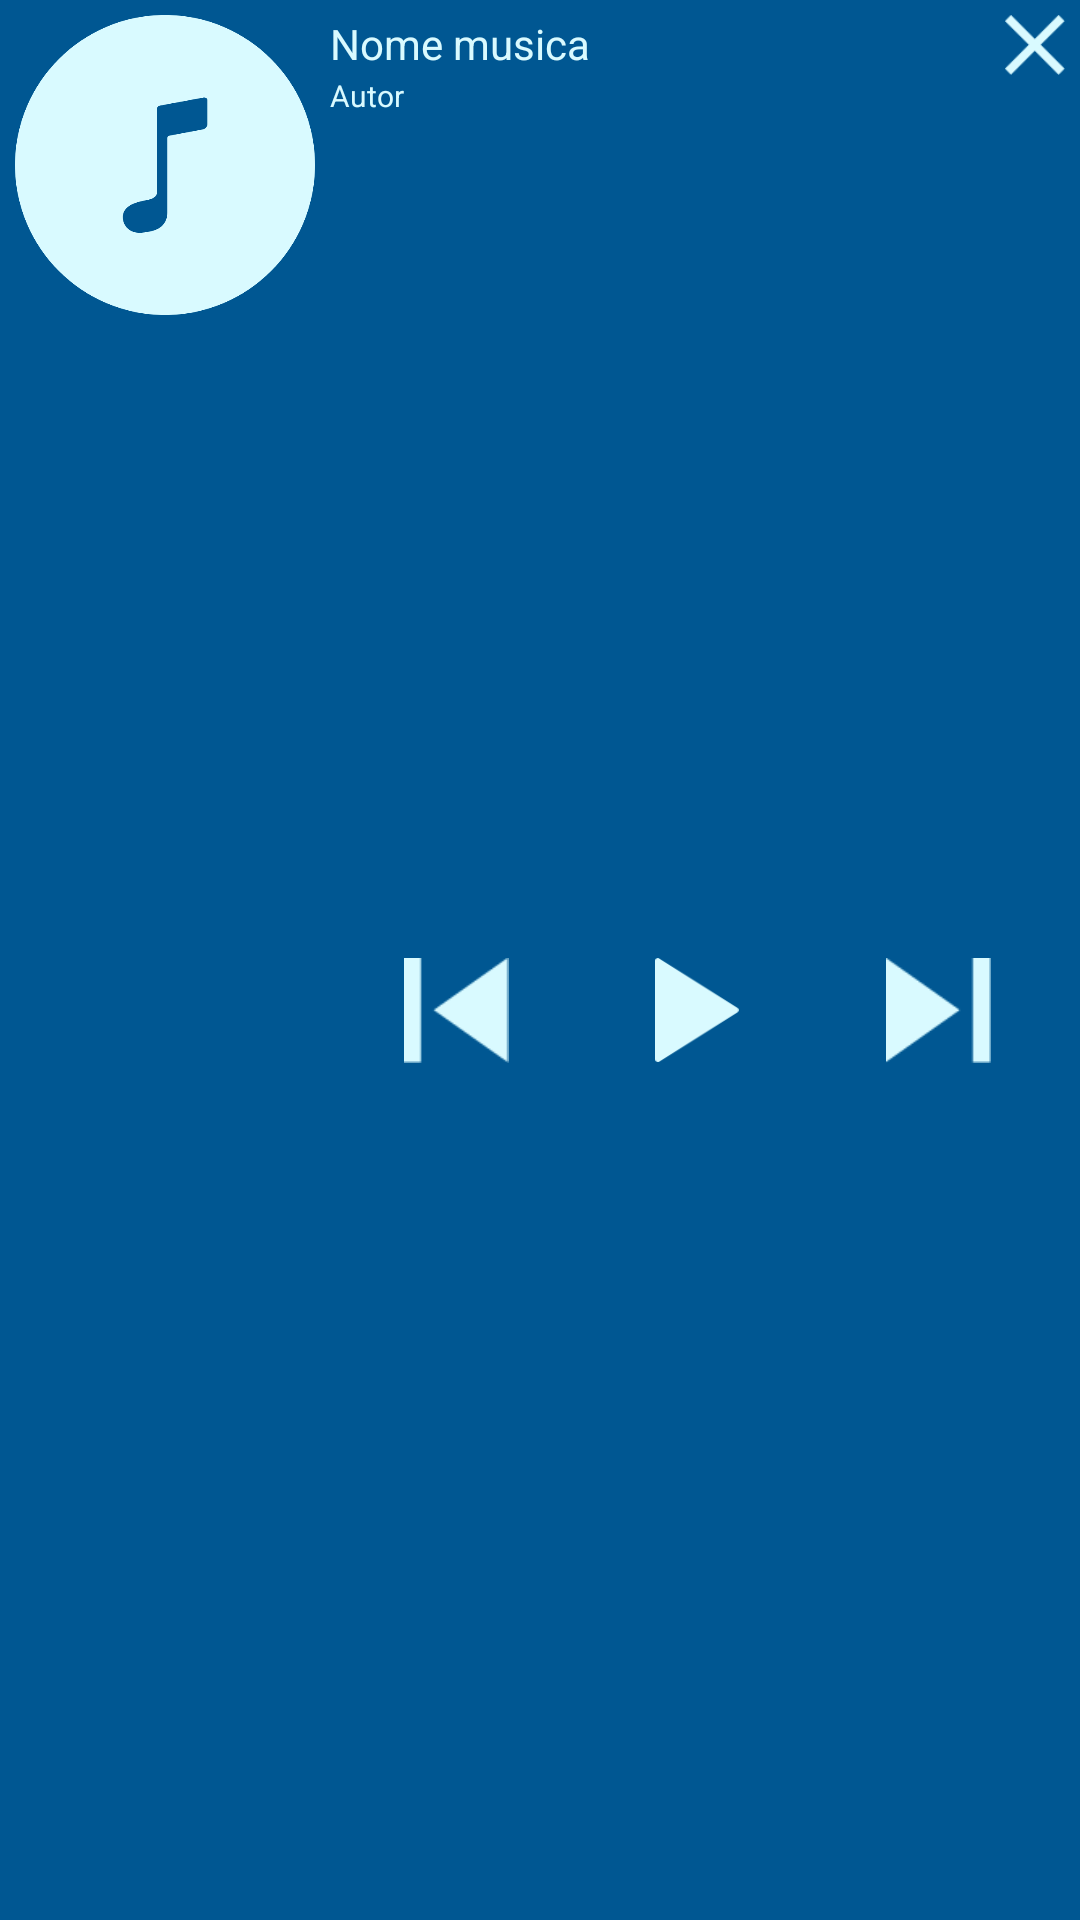

Locate icon controls on the screen. Image size 1080 × 1920, boxes as (x1, y1, x2, y2).
close notify: (1005, 15, 1065, 75)
pbe backmusic: (404, 958, 509, 1063)
pbe disk: (15, 15, 315, 315)
pbe nextmusic: (886, 958, 991, 1063)
pbe playbutton: (655, 958, 739, 1062)
